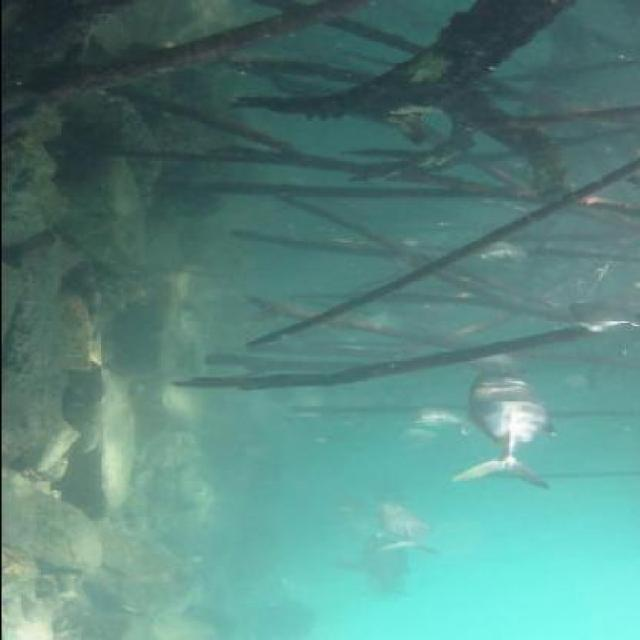Caranx_sexfasciatus_juvenile: (446, 369, 556, 488), (278, 372, 347, 428), (354, 542, 414, 604), (557, 293, 638, 336), (369, 504, 434, 556), (396, 400, 472, 437), (473, 238, 541, 270)
